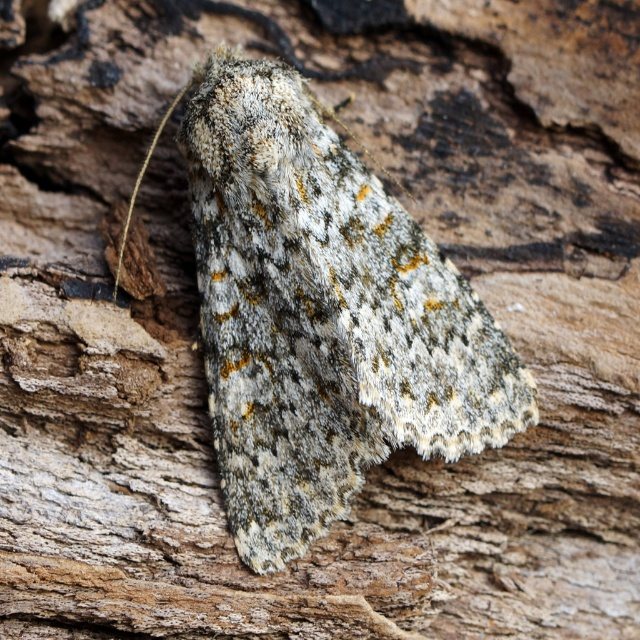Moths and butterflies: (108, 30, 544, 576)
